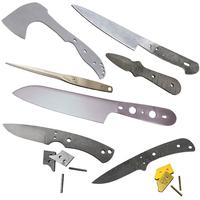knife: (68, 2, 197, 71), (7, 82, 177, 129), (2, 2, 105, 78), (88, 137, 195, 187), (1, 120, 117, 162), (1, 58, 113, 92), (103, 51, 183, 95)
